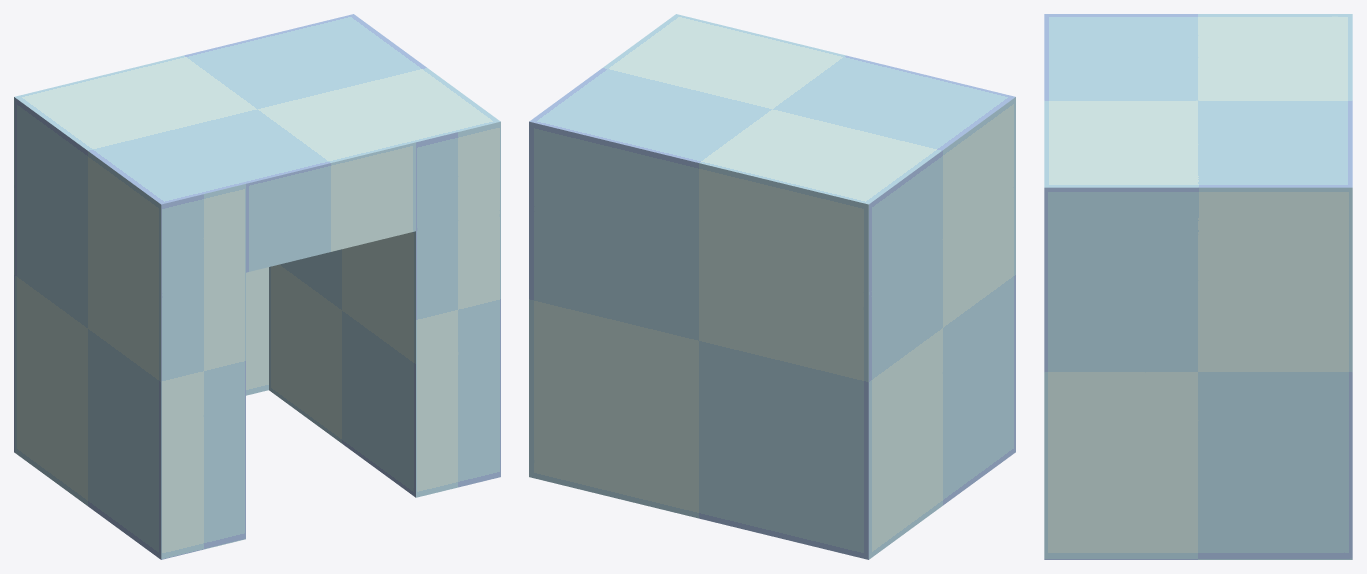
File: Debug Door.fbx
3 views of the same model, side by side, from view 1: azimuth 30°, elevation 25°; view 2: azimuth 150°, elevation 25°; view 3: azimuth 270°, elevation 25° (orthographic). The views are drawn at different scales.
Parts seen in each view (by area): view 1: Debug Door; view 2: Debug Door; view 3: Debug Door.
Boxes of the visible parts, <box> form: Debug Door: <box>14,14,500,559</box>; Debug Door: <box>529,14,1015,559</box>; Debug Door: <box>1044,14,1352,559</box>.
Size of the model in its own units: 400 by 400 by 300.
